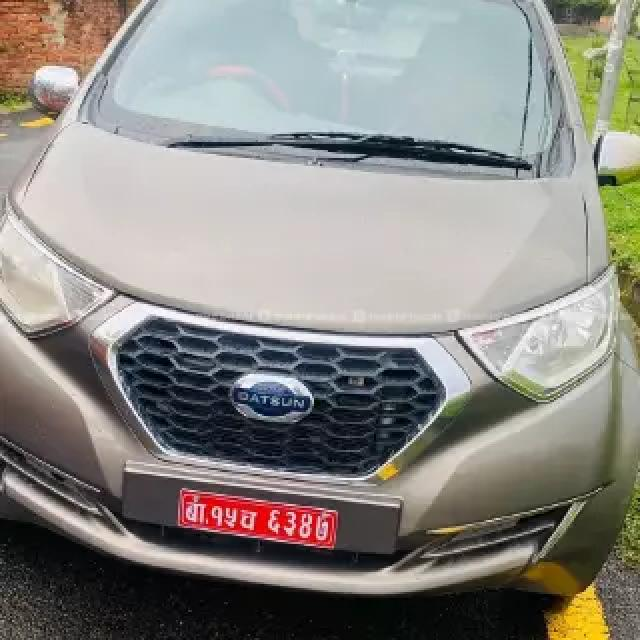License-plate: (178, 485, 340, 550)
